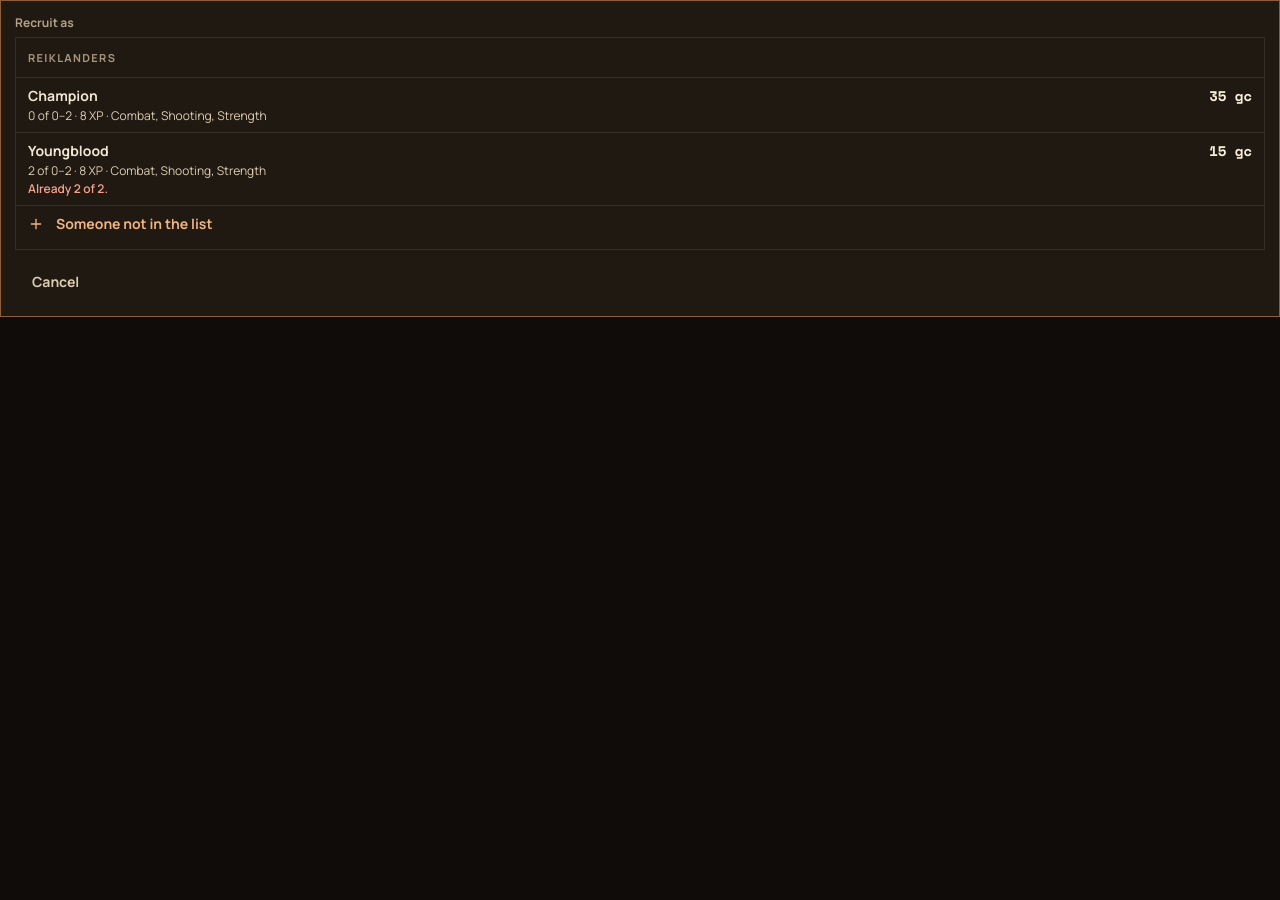
Scenario: Recruiting from the warband's template › recruits a Champion with kit at list price, and the tally is what is sent
Later steps or results of the test are not shown.
expect the radio button labelled "Youngblood" shows "Already 2 of 2.": met, box 16,132 -> 1264,204
Click the radio button labelled "Champion 0 of 0–2 · 8 XP · Combat, Shooting, Strength 35 gc".
click(63, 95)  # box 16,76 -> 1264,132
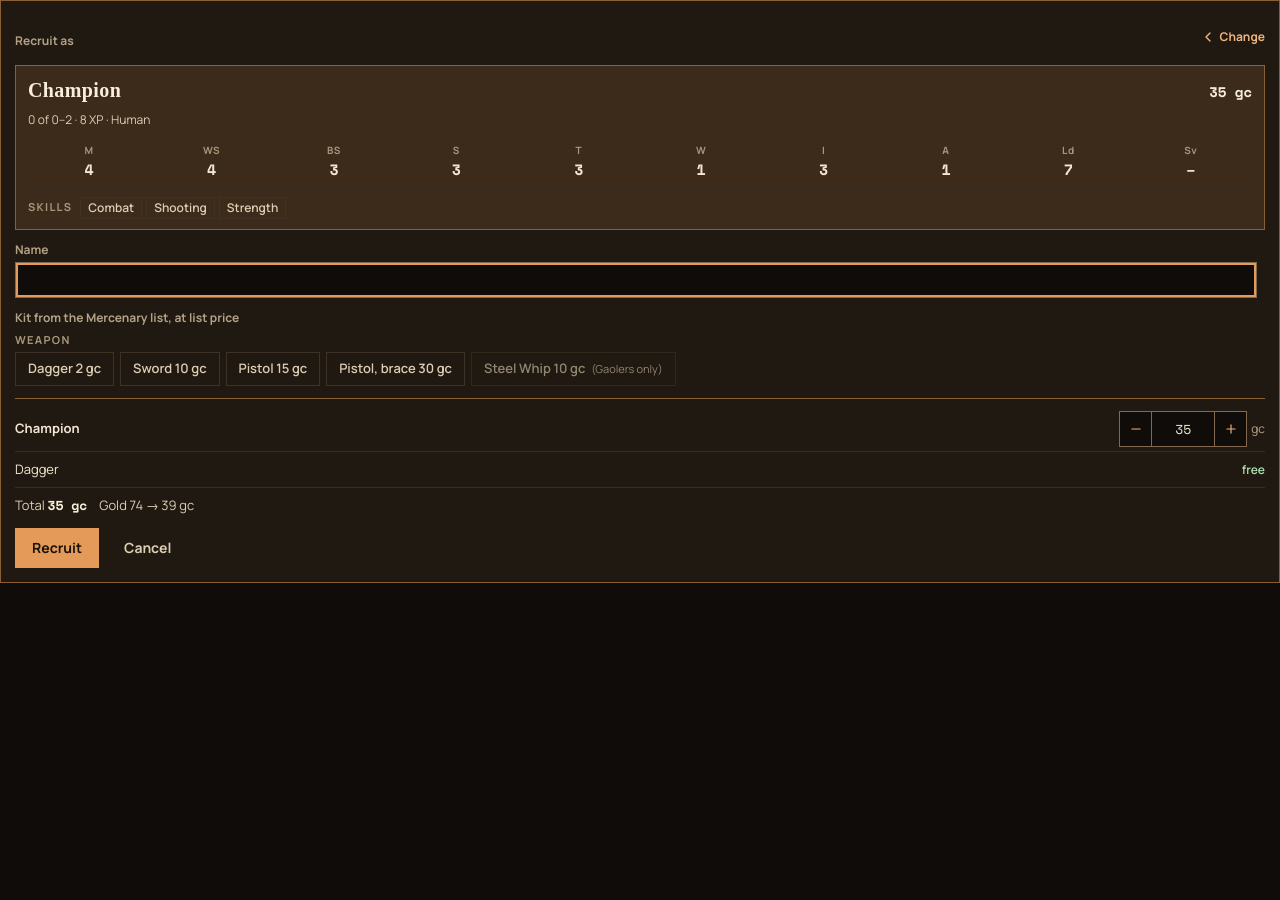
Type "Ulrich" into the field labelled "Name".
click(636, 280); type("Ulrich")  # box 15,262 -> 1257,298
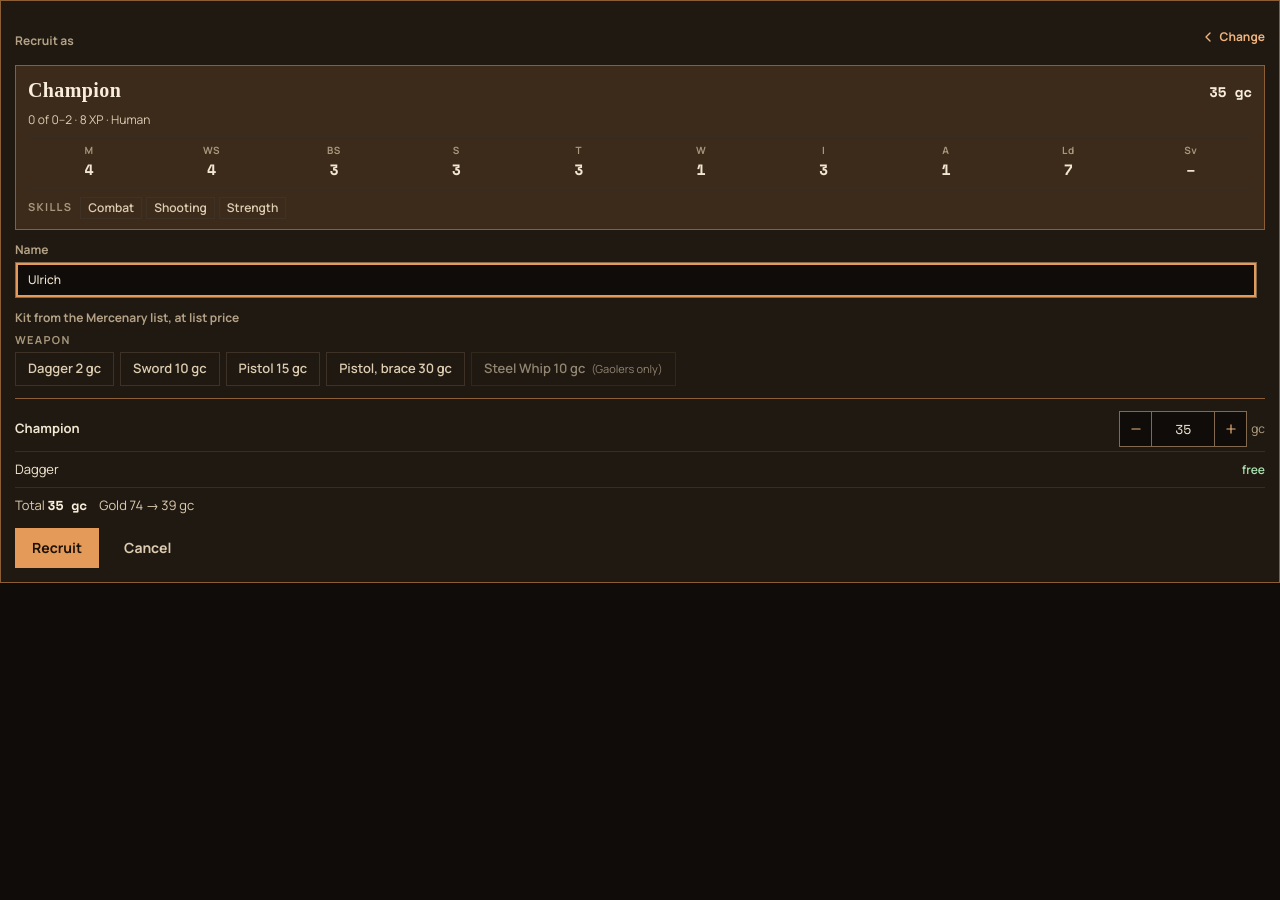
Click the button "Sword 10 gc".
click(170, 369)  # box 120,352 -> 220,386
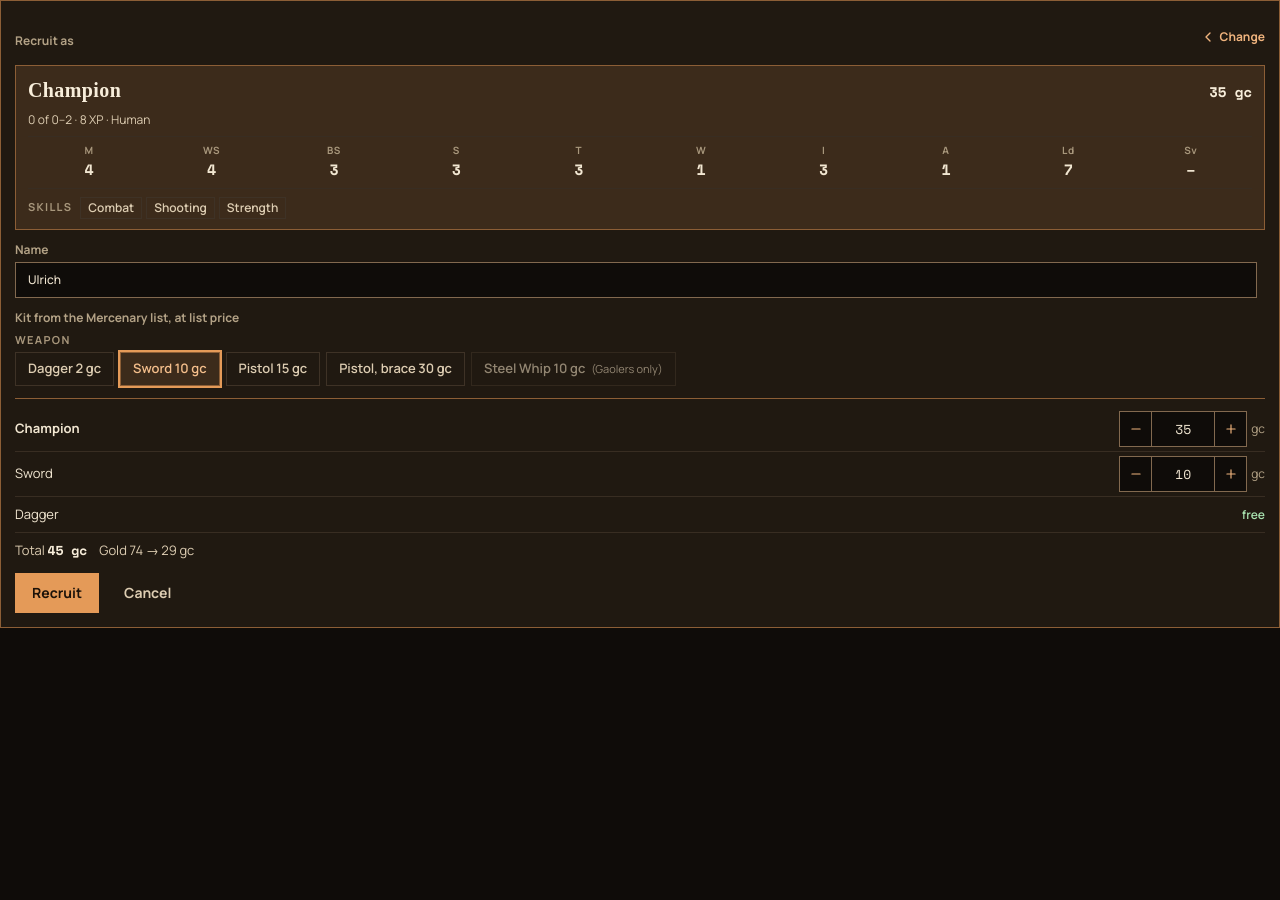
Click the button "Pistol, brace 30 gc".
click(396, 369)  # box 326,352 -> 465,386
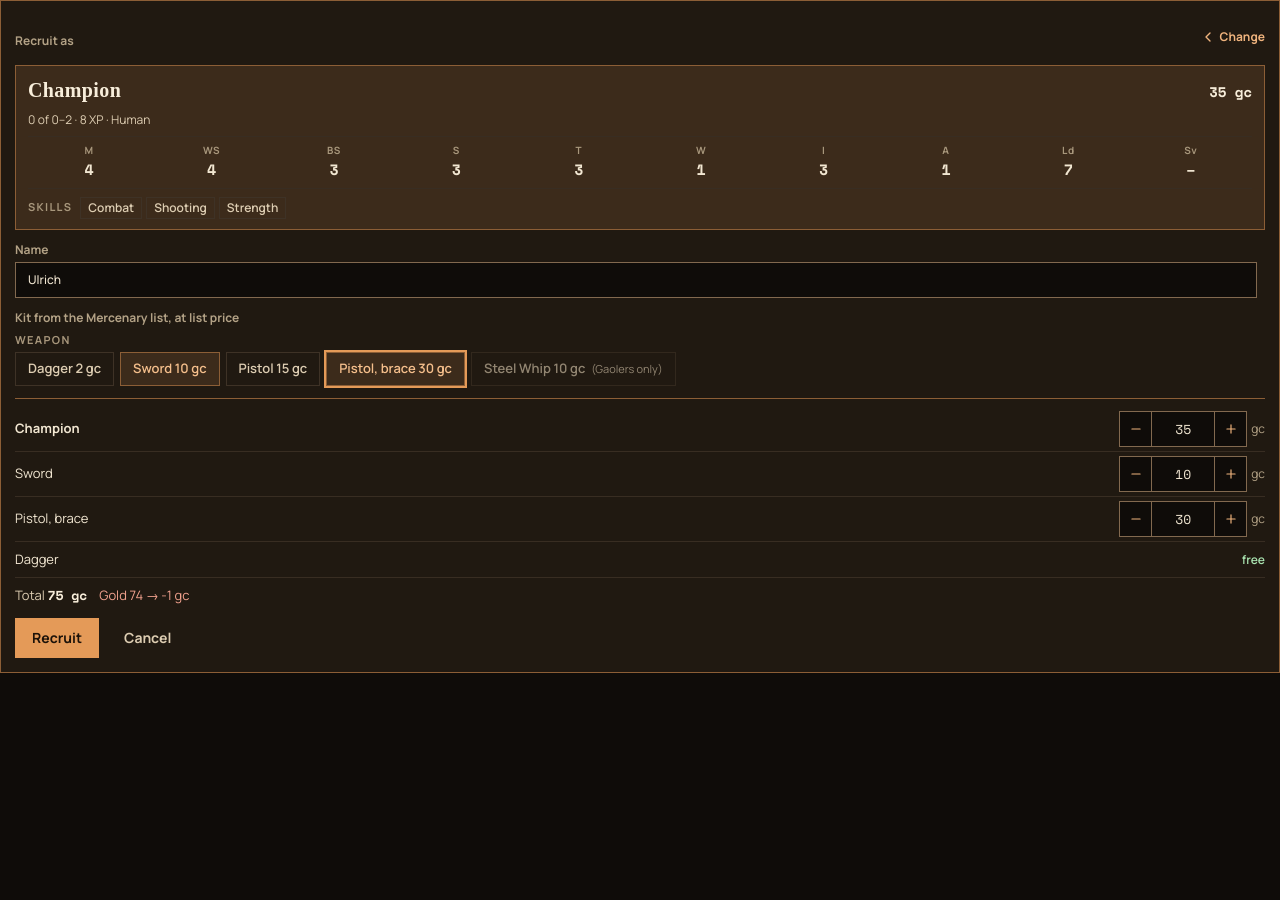
expect the button "Steel Whip 10 gc (Gaolers only)" is shown: met, box 471,352 -> 676,386
expect the text "free" is shown: met, box 1242,552 -> 1265,568
expect the text "75 gc" is shown: met, box 48,585 -> 87,605
Replace the text in the number field named "Price for Champion" with "30" at (1183, 429), box 1151,411 -> 1215,447
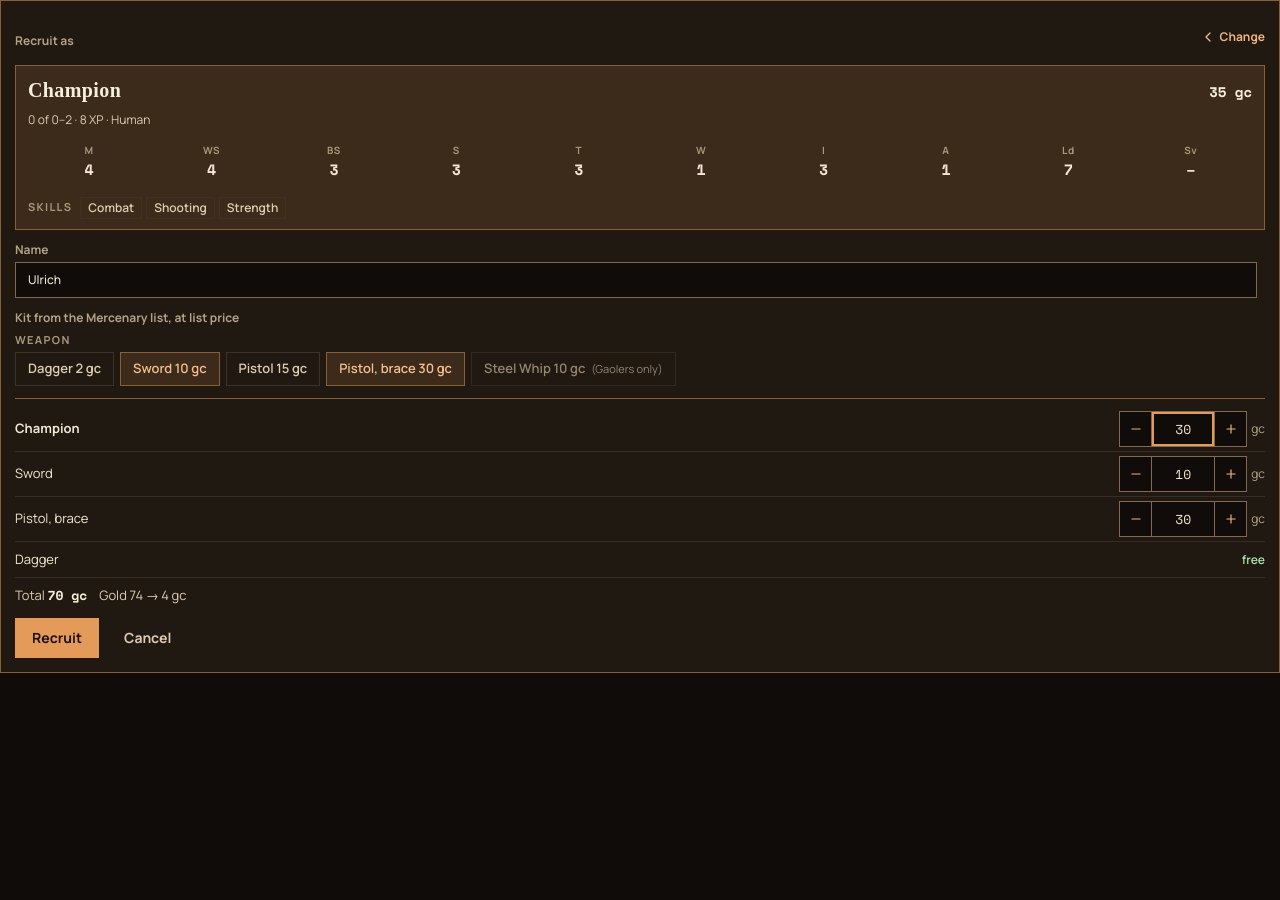
expect the text "Gold 74 → 4 gc" is shown: met, box 99,586 -> 187,606
